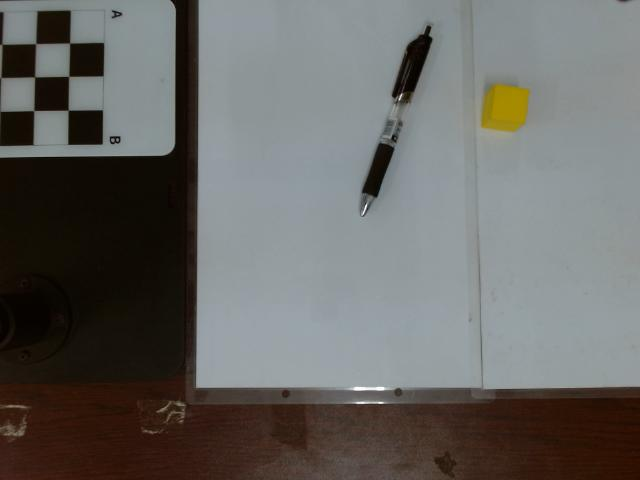PEN: (349, 20, 436, 219)
